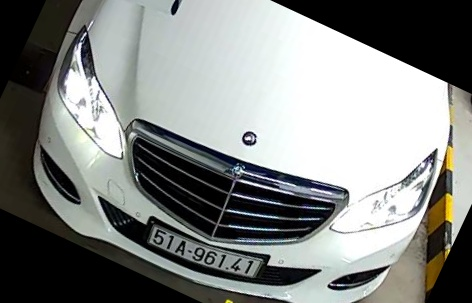plate: (145, 215, 263, 282)
